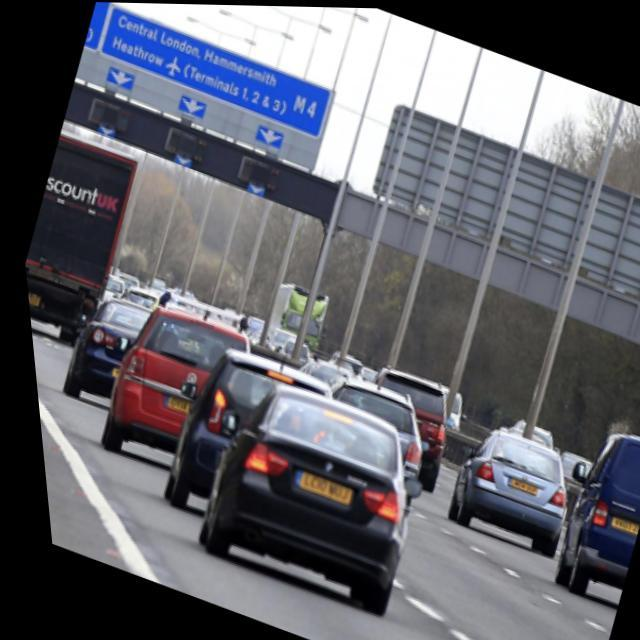license_plate: (283, 466, 350, 506), (493, 466, 534, 496)
